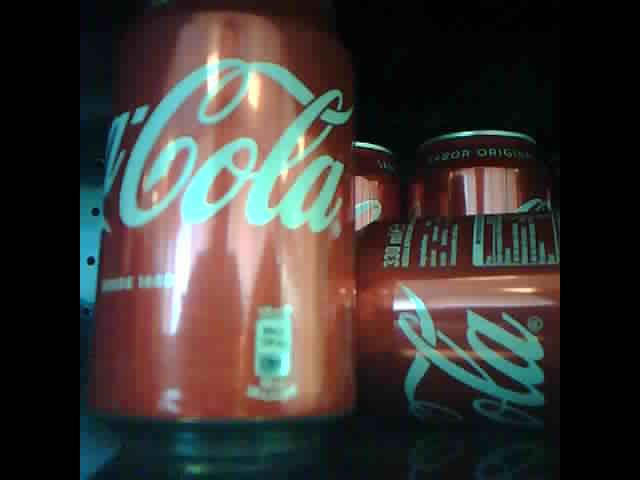coca cola: (89, 4, 356, 444), (355, 214, 559, 419), (403, 132, 558, 234), (352, 136, 400, 234)
